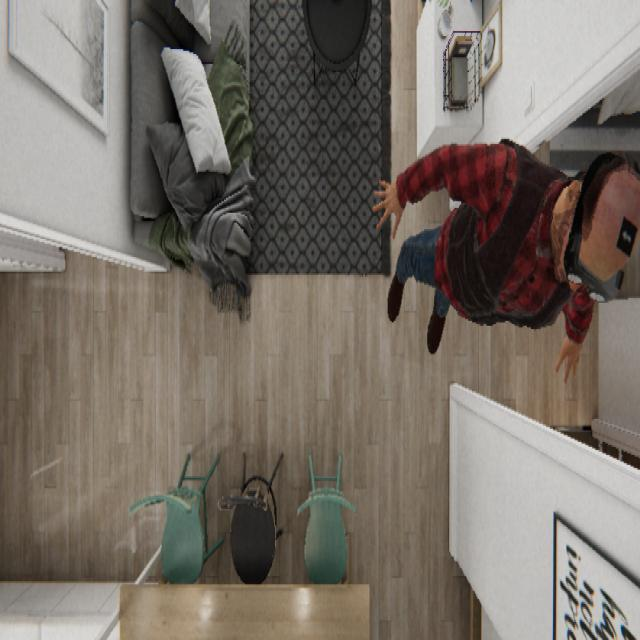Human: (372, 136, 638, 383)
UnityLogo: (616, 211, 637, 259)
